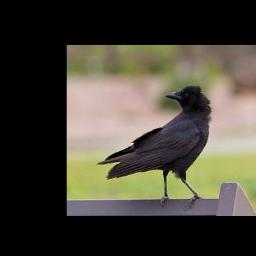Crow: (95, 84, 213, 207)
